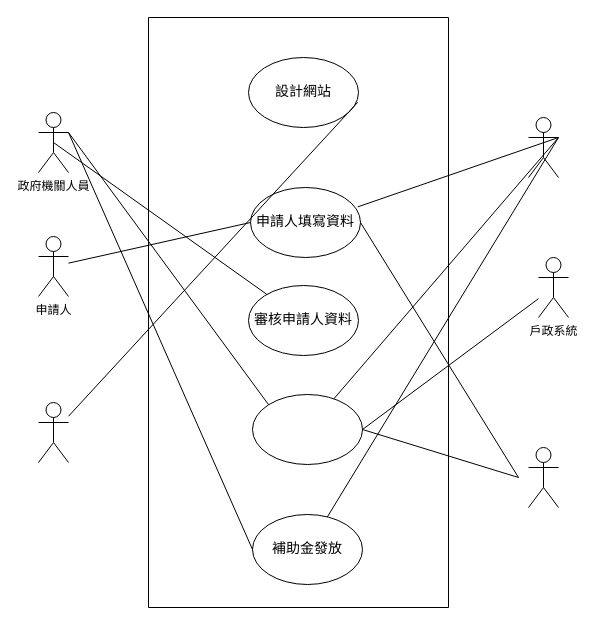
The diagram is 602 pixels wide and 625 high, and some of its shapes have lost their labels. Here are the shapes that lost their labels. From the top down, the centre of each, then its label:
At point (543, 147): "第三方金融機構".
At point (53, 432): "網站設計師".
At point (307, 429): "資料比對".
At point (543, 477): "健保局".
